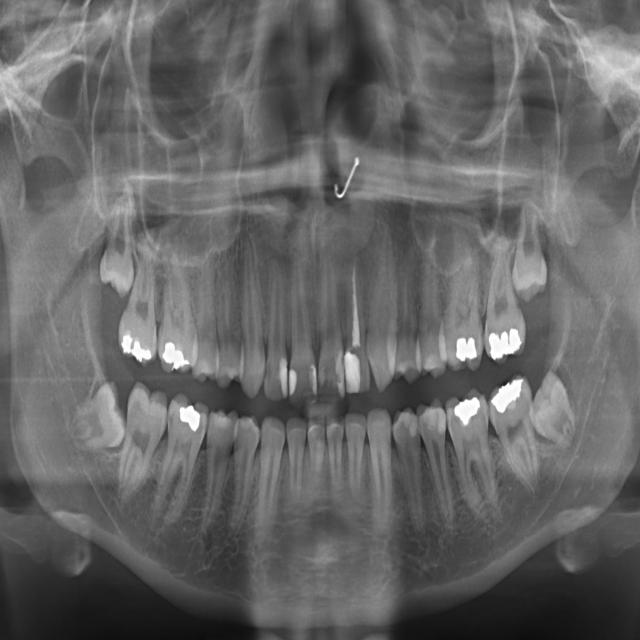AmalgamRestoration: (491, 378, 526, 418), (490, 328, 522, 361), (121, 328, 152, 362), (161, 338, 191, 372), (452, 393, 480, 426), (454, 332, 478, 362), (178, 403, 202, 432)
CompositeResinRestoration: (345, 351, 363, 392), (333, 345, 344, 399), (425, 406, 445, 434), (404, 413, 419, 444), (288, 360, 299, 394), (308, 355, 316, 397), (280, 359, 288, 396), (316, 366, 325, 392)
DentalCaries: (262, 356, 273, 389), (168, 409, 176, 437)
RootCanalTreatment: (350, 253, 366, 355)
